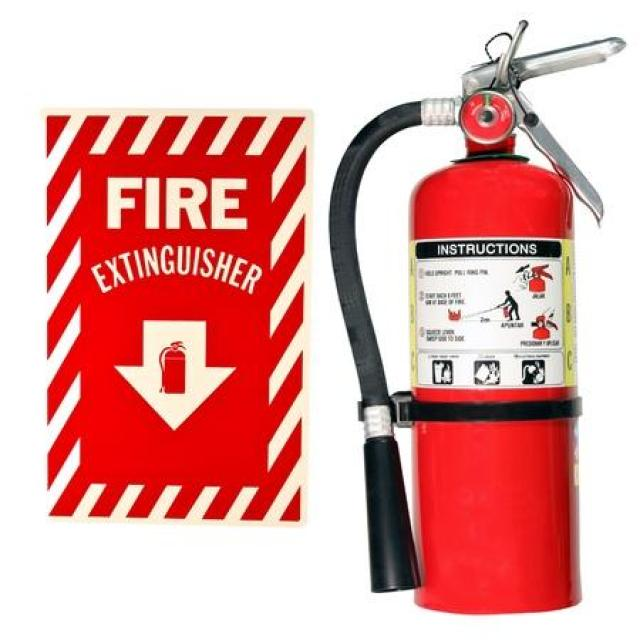fire_extinguisher: (322, 16, 628, 623)
